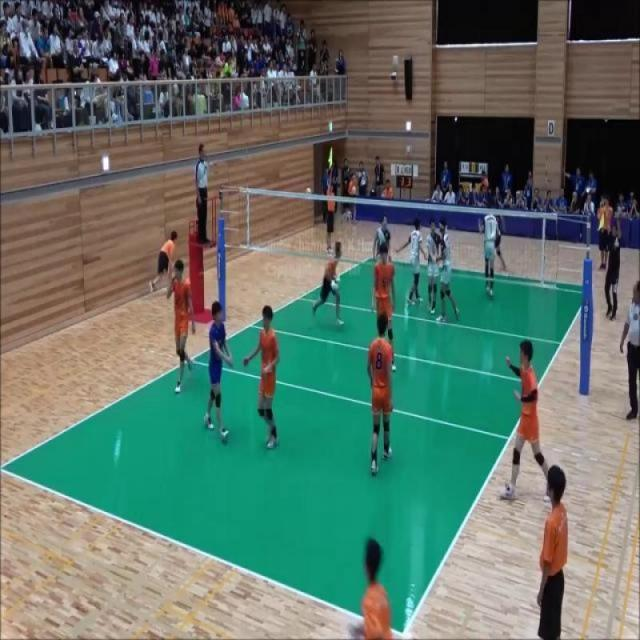volleyball: (306, 187, 312, 194), (352, 186, 356, 194)
